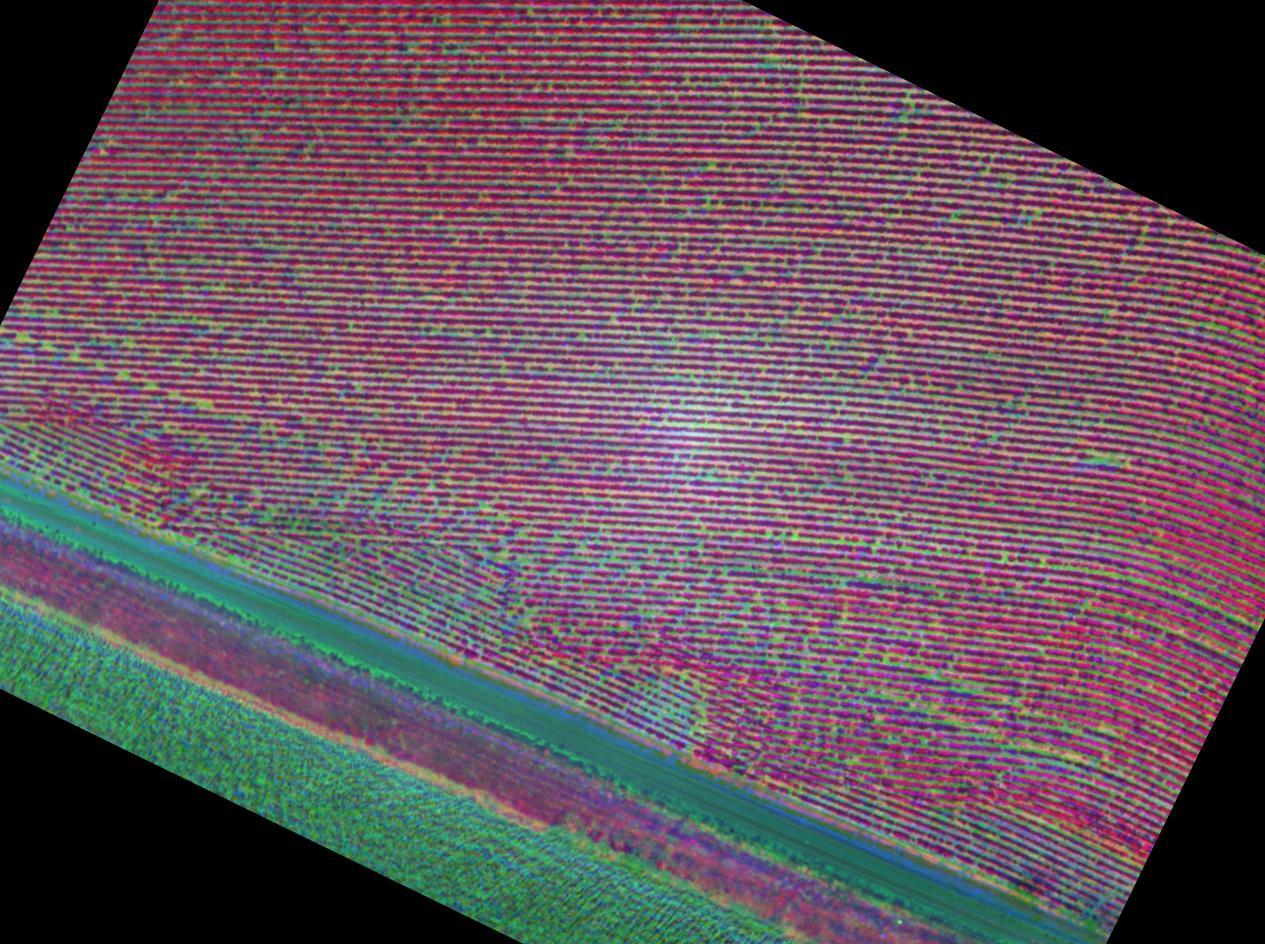dc: (198, 399, 211, 410), (1103, 454, 1114, 465), (769, 56, 778, 68), (480, 501, 489, 511)
